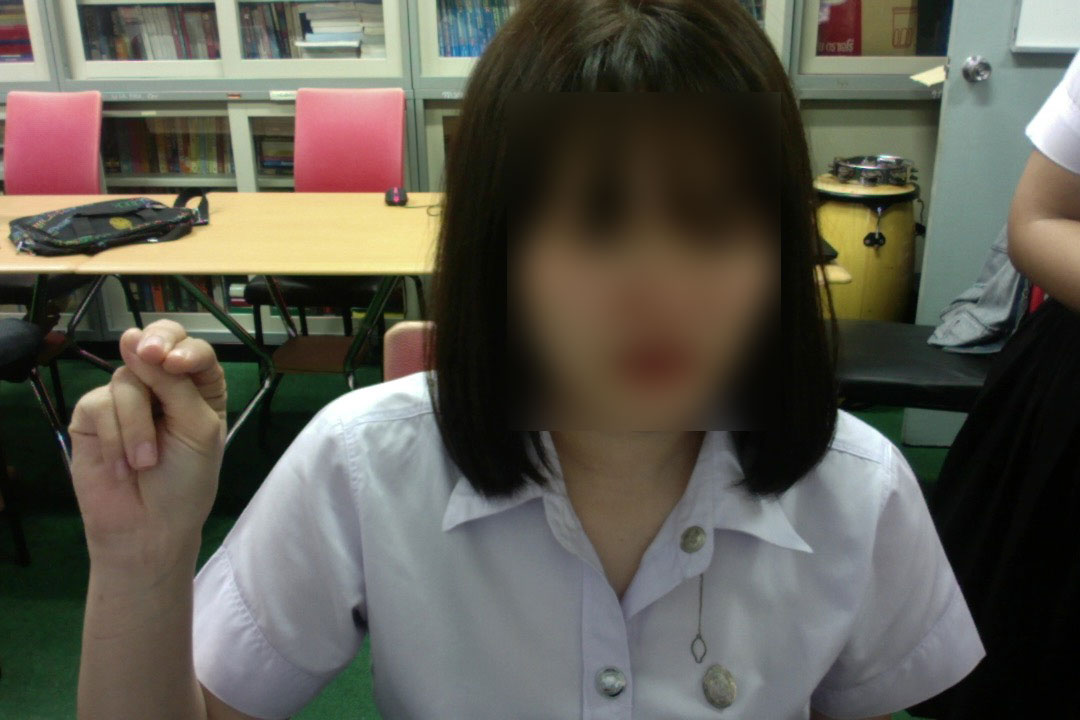nor: (53, 310, 230, 585)
